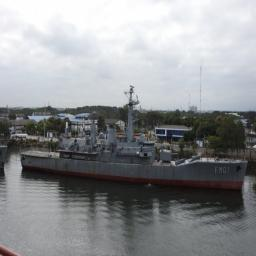Fragata: (21, 81, 251, 193)
